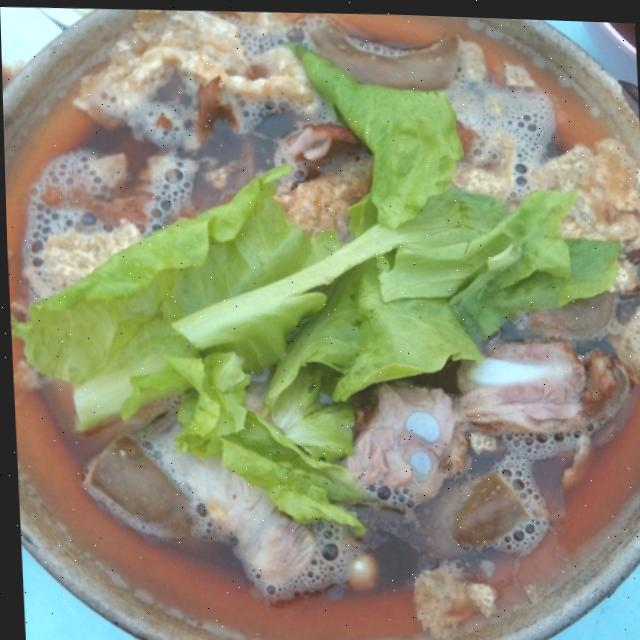汤锅炖物: (13, 11, 640, 630)
